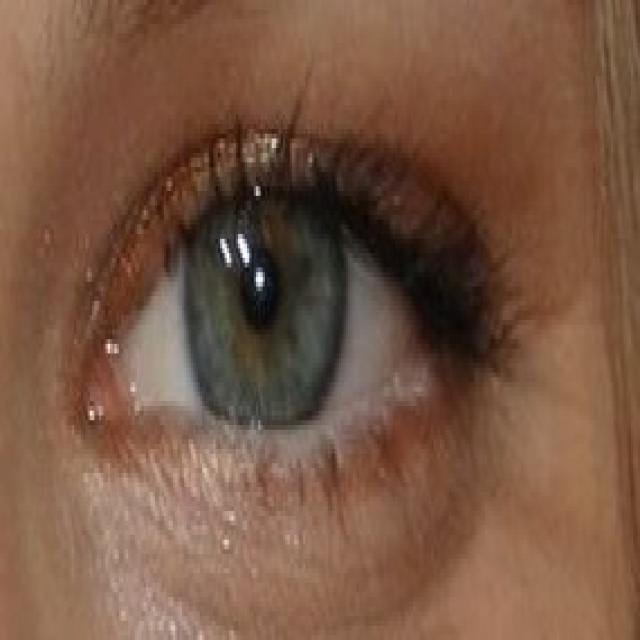Normal: (184, 121, 347, 457)
